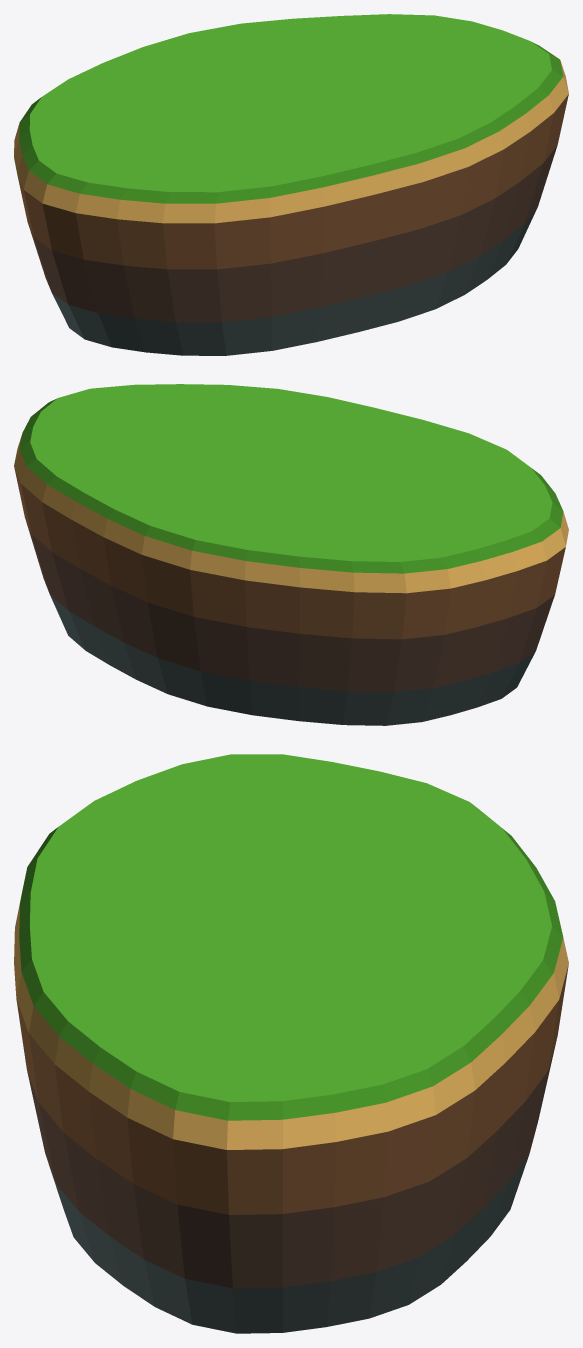
File: stage_select_horizon_islet.obj
3 views of the same model, one above another, from view 1: azimuth 30°, elevation 25°; view 2: azimuth 150°, elevation 25°; view 3: azimuth 270°, elevation 25° (orthographic). The views are drawn at different scales.
Visible parts, largest first — view 1: stage_select_horizon_islet; view 2: stage_select_horizon_islet; view 3: stage_select_horizon_islet.
Part boxes in pixels (left/top/right/bottom): stage_select_horizon_islet: left=14, top=14, right=568, bottom=355; stage_select_horizon_islet: left=14, top=384, right=568, bottom=725; stage_select_horizon_islet: left=14, top=754, right=568, bottom=1333.
Size of the model in its own units: 22.5 by 7.2 by 14.28.
